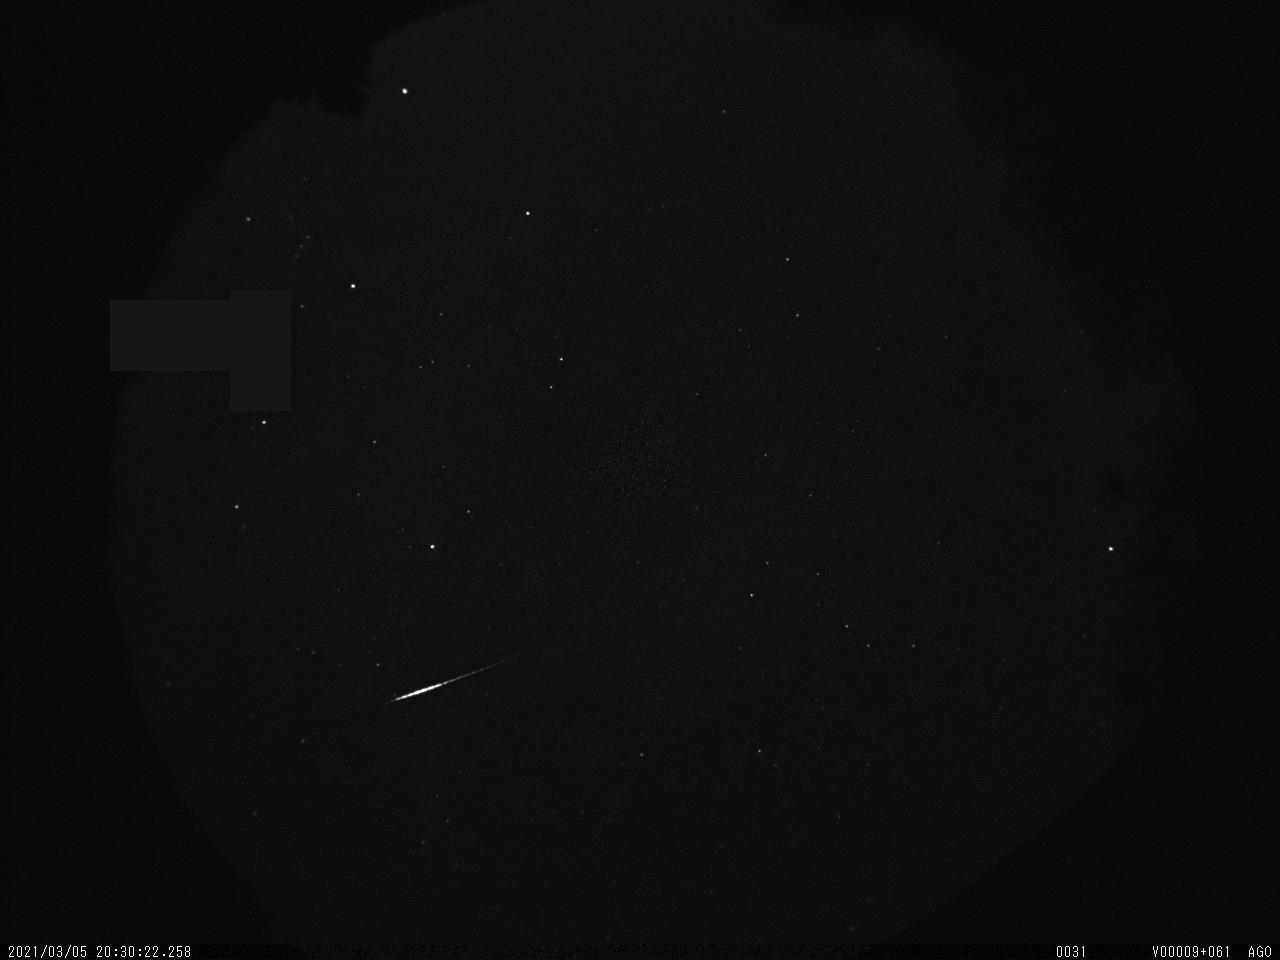Meteor: (387, 656, 509, 706)
